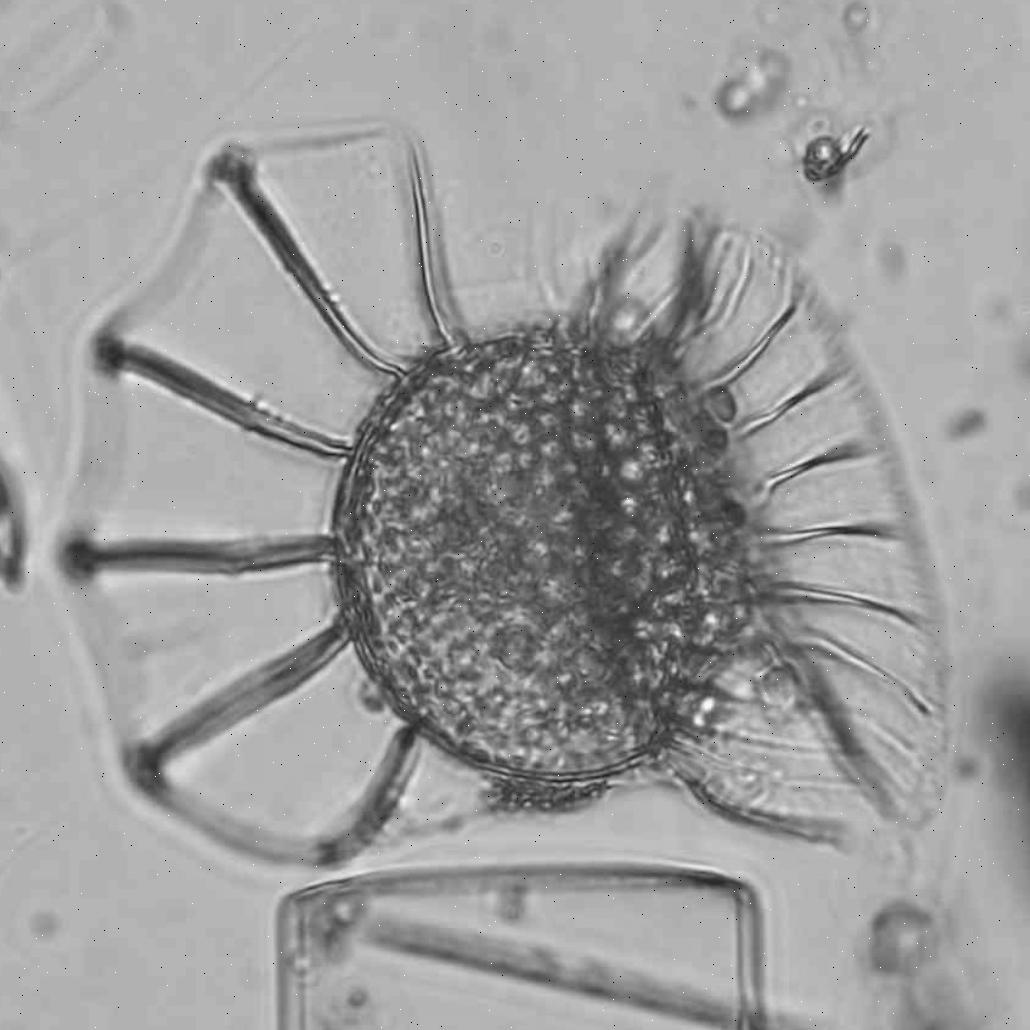ornithocercus_thumii: (50, 128, 950, 863)
